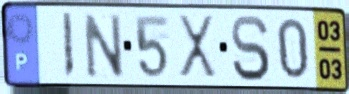0: (274, 16, 311, 81)
5: (133, 14, 173, 81)
I: (60, 10, 76, 81)
N: (81, 11, 126, 81)
S: (229, 13, 272, 84)
X: (176, 12, 219, 83)
